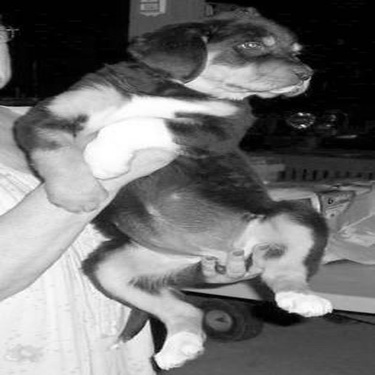dog: (8, 4, 356, 371)
